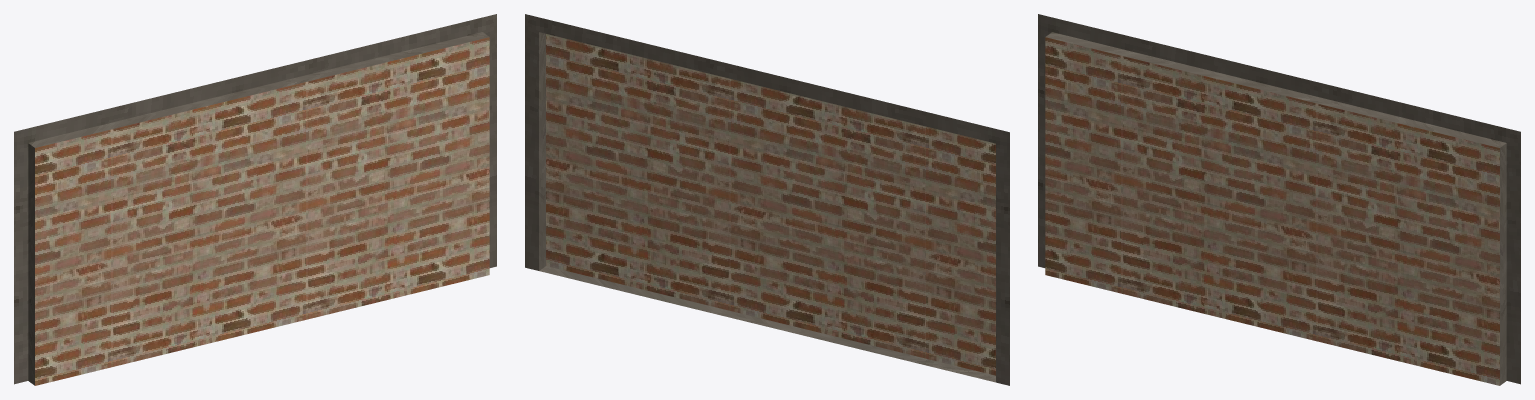
File: Factory_Wall_4x2m.glb
The picture shows the model from 3 angles, left to right: view 1: azimuth 30°, elevation 25°; view 2: azimuth 150°, elevation 25°; view 3: azimuth 330°, elevation 25°; orthographic projection.
Parts seen in each view (by area): view 1: Factory_Wall_4x2; view 2: Factory_Wall_4x2; view 3: Factory_Wall_4x2.
Part boxes in pixels (<box>): Factory_Wall_4x2: <box>14,14,496,385</box>; Factory_Wall_4x2: <box>525,14,1009,385</box>; Factory_Wall_4x2: <box>1038,14,1520,385</box>.
Bounding box in the file's own units: 4 × 2 × 0.1.
Materials: 2 (2 with a texture image).
